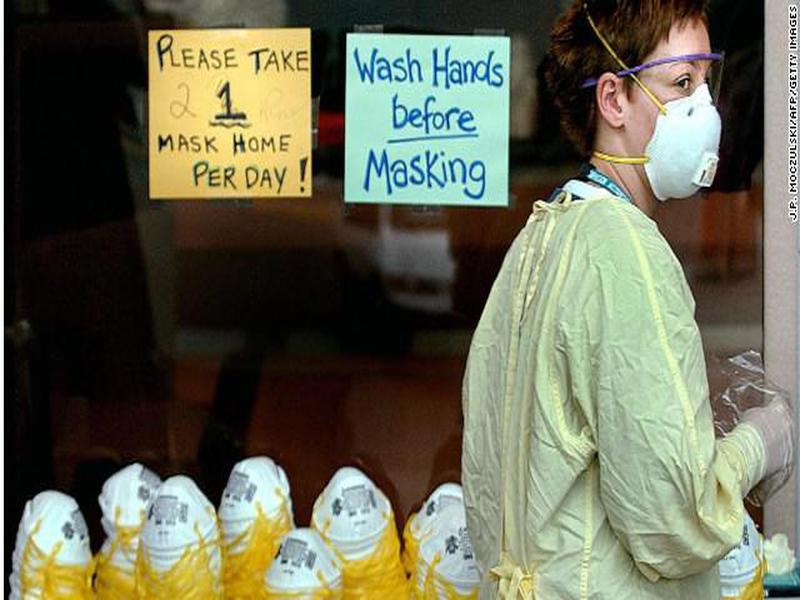with_mask: (541, 1, 725, 212)
